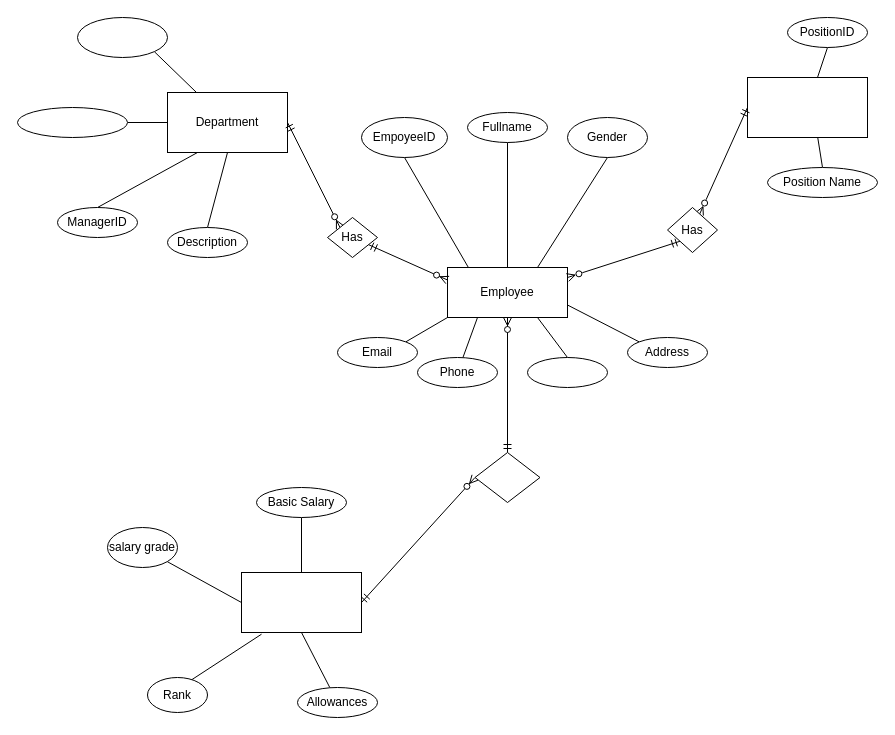
Image size: 895x735. Some labels were removed from this diagram. Each missing label, with the box of its shape:
Date of Birth: (526, 356, 608, 388)
Department Name: (16, 106, 128, 138)
DepartmentID: (76, 16, 168, 58)
get paid: (474, 452, 540, 502)
Position: (746, 76, 868, 138)
Salary: (240, 572, 362, 632)
